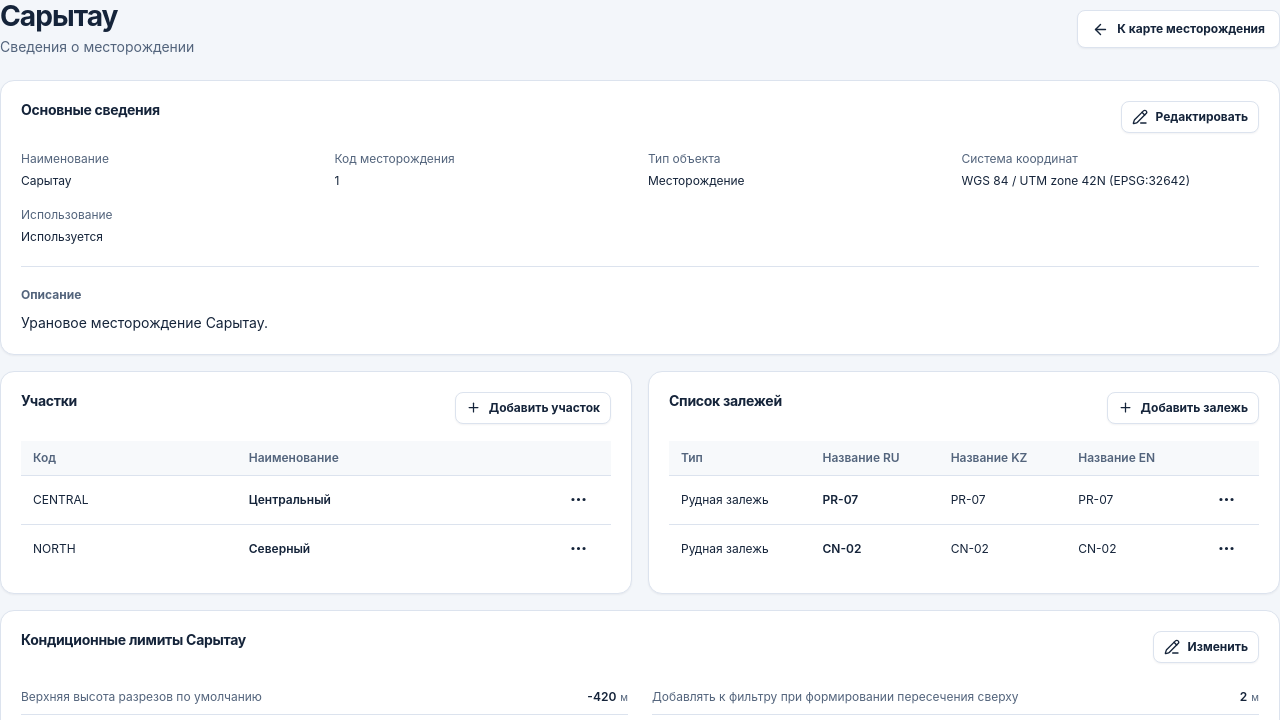
Deposit condition limits › cancels edits without a confirmation and restores stored values on reopening
Click the button "Изменить".
click(1206, 647)  # box [1152,631,1259,663]
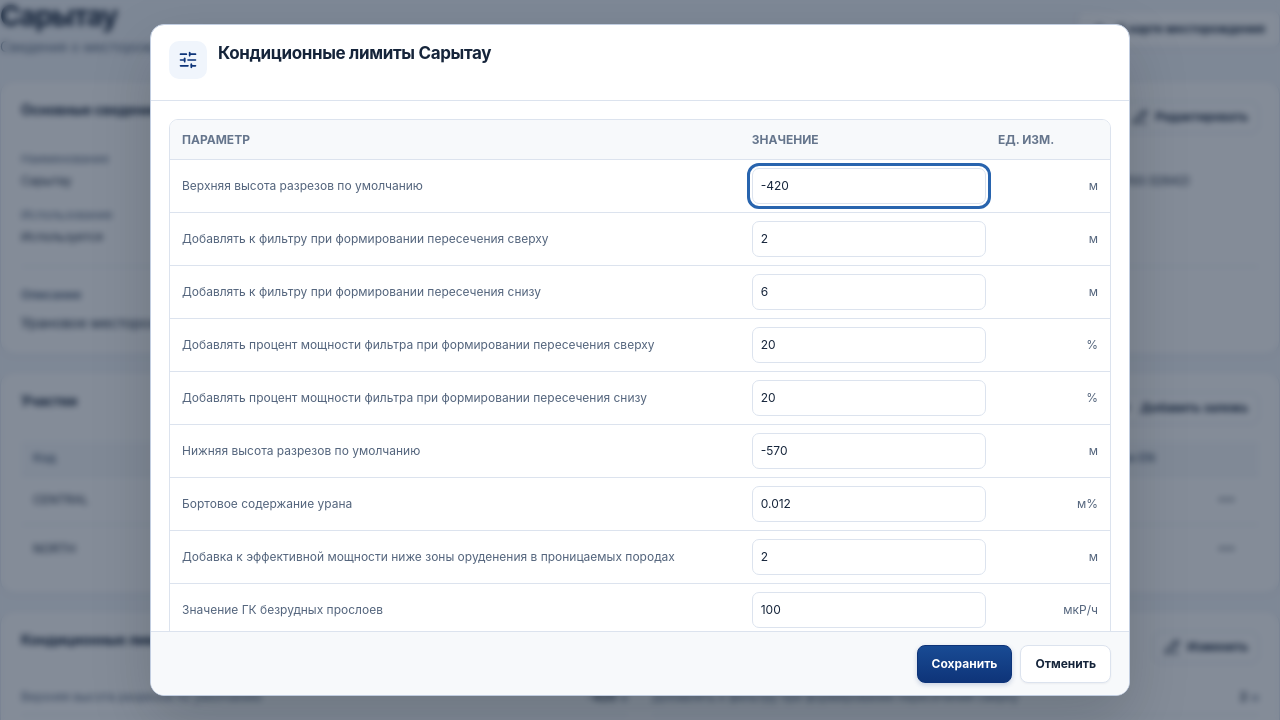
Replace the text in the field labelled "Бортовое содержание урана" with "discard me" at [869, 504], box [752,486,986,522]
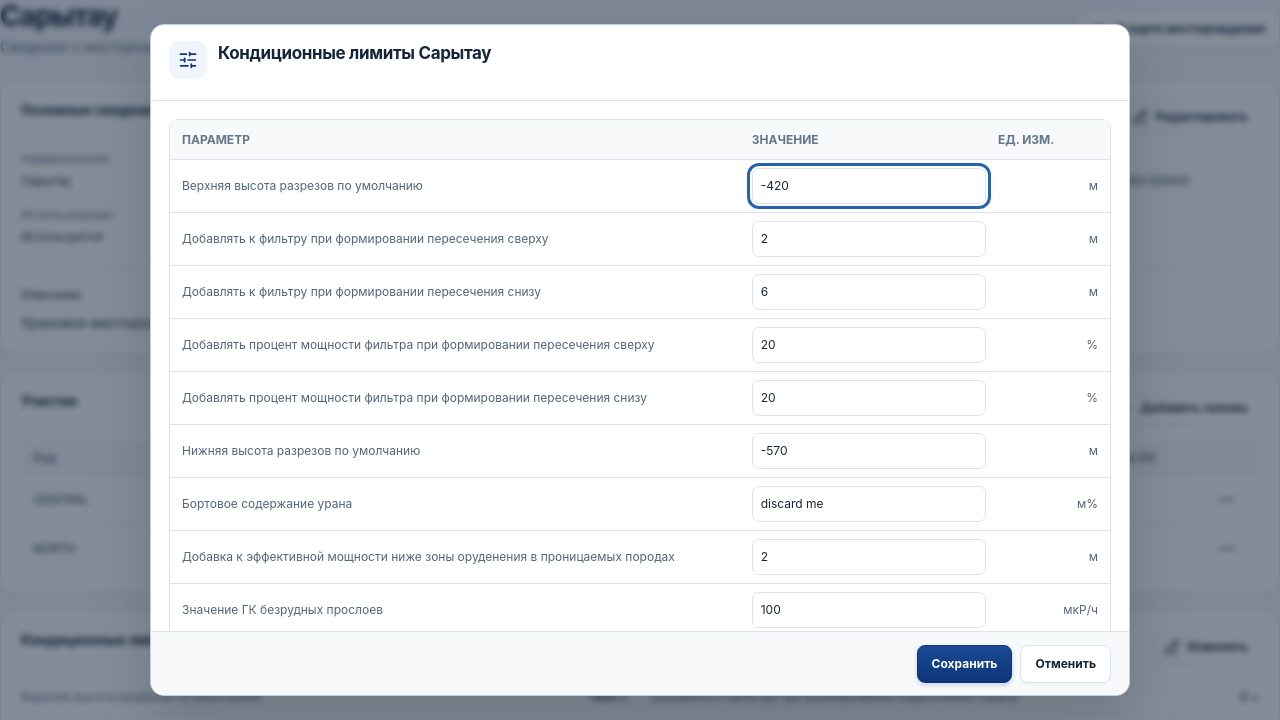
Click the button "Отменить".
click(1066, 664)  # box [1020,644,1111,682]
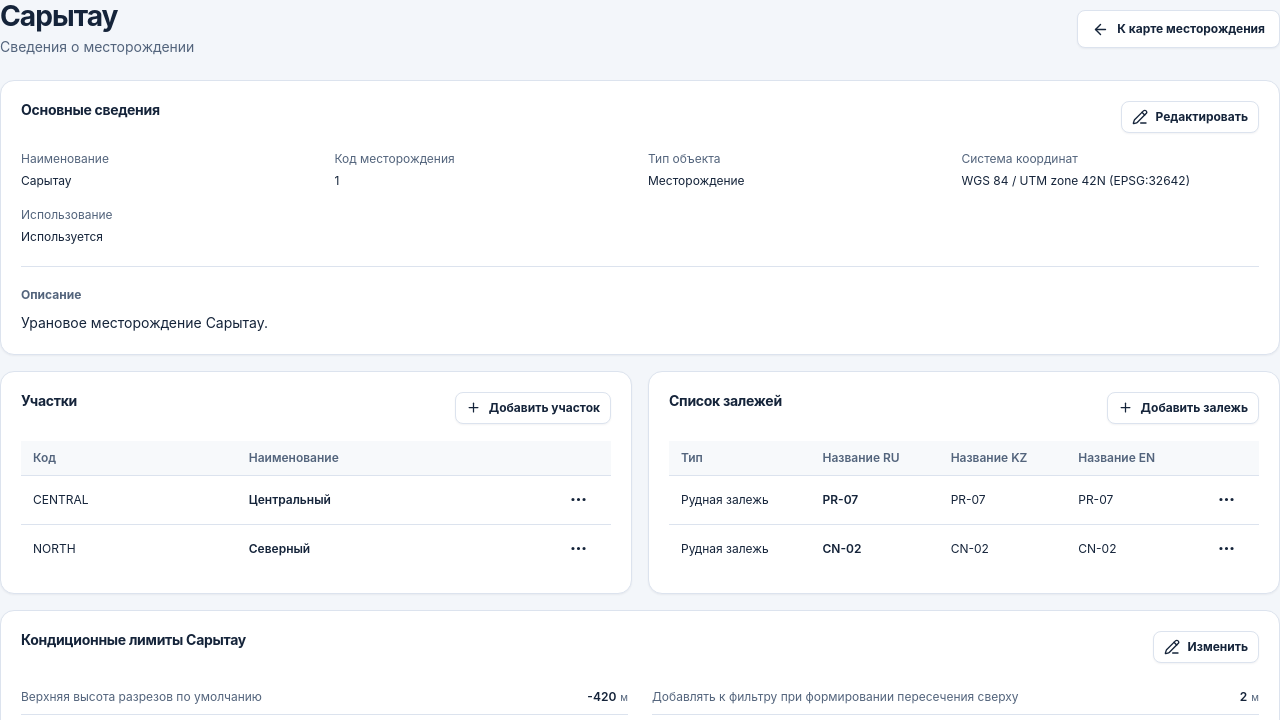
Click the button "Изменить".
click(1206, 647)  # box [1152,631,1259,663]
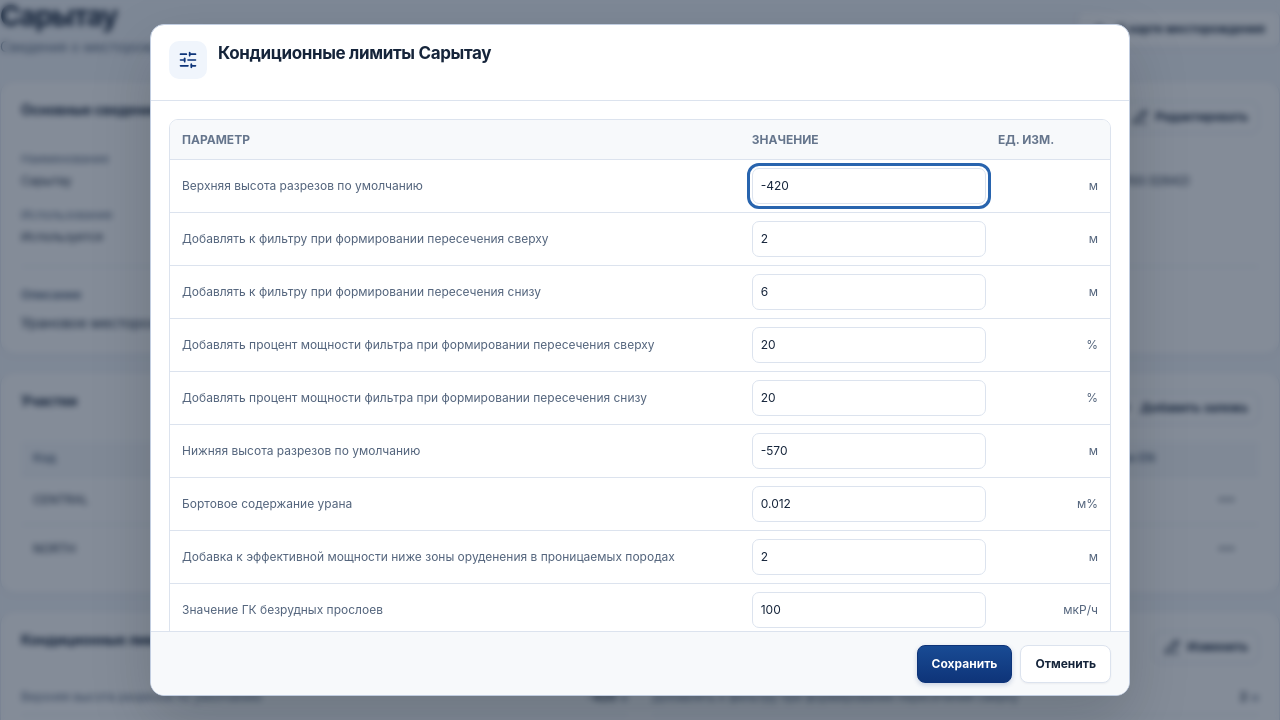
Result: the field labelled "Бортовое содержание урана" holds "0.012" at [752,486,986,522]
Press Escape in the dialog
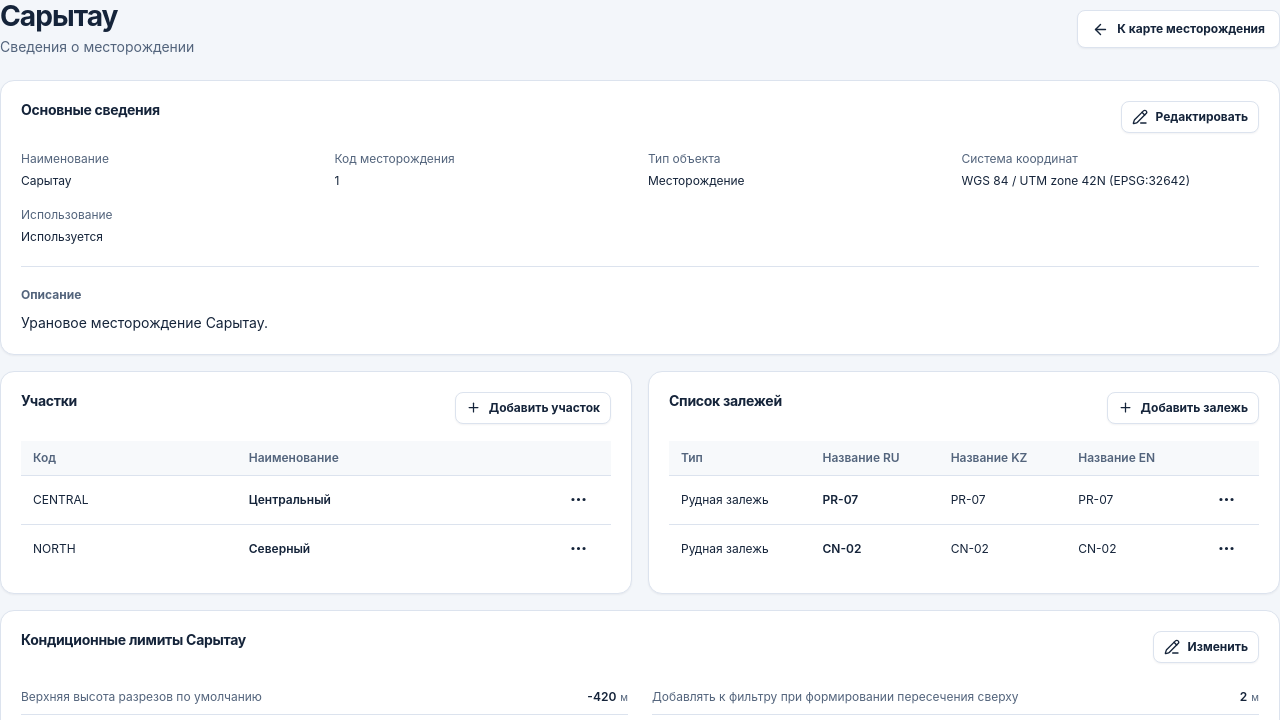
Result: the dialog is gone
